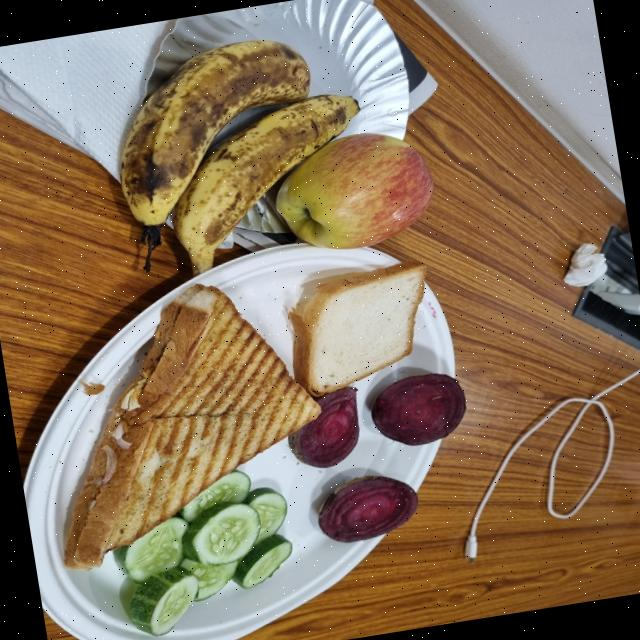apple: (272, 133, 431, 249)
banana: (116, 38, 309, 227), (167, 93, 358, 273)
cucumber: (117, 470, 288, 633)
